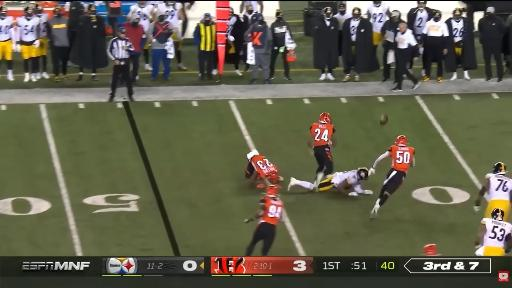Helmet: (265, 185, 279, 198), (423, 243, 437, 255), (491, 208, 504, 220), (267, 171, 279, 183), (395, 135, 408, 146), (493, 163, 506, 174), (358, 167, 369, 180), (322, 7, 333, 19), (319, 113, 331, 123), (352, 7, 362, 19), (24, 6, 33, 18), (34, 3, 43, 14), (453, 8, 462, 18), (0, 6, 7, 18), (352, 7, 362, 15), (434, 10, 441, 18), (418, 2, 426, 9), (339, 3, 346, 10), (137, 2, 146, 7), (373, 2, 381, 6)
Jersey: (481, 218, 511, 247), (388, 145, 414, 172), (486, 174, 511, 201), (129, 4, 153, 31), (250, 155, 278, 178), (260, 198, 283, 225), (17, 17, 39, 44), (310, 123, 335, 146), (368, 4, 388, 32), (158, 3, 181, 25), (331, 170, 359, 187), (423, 19, 449, 37), (413, 9, 429, 35), (0, 16, 13, 41), (35, 14, 48, 38), (334, 13, 351, 30), (451, 19, 463, 41), (350, 18, 360, 41), (147, 2, 164, 6)
Player: (370, 136, 414, 218), (245, 186, 283, 256), (308, 113, 337, 188), (474, 163, 511, 220), (159, 2, 187, 70), (17, 6, 40, 82), (475, 208, 511, 255), (318, 167, 372, 195), (246, 150, 283, 185), (0, 6, 16, 81), (34, 3, 49, 79), (367, 2, 391, 46), (128, 2, 155, 33), (147, 2, 164, 6)
